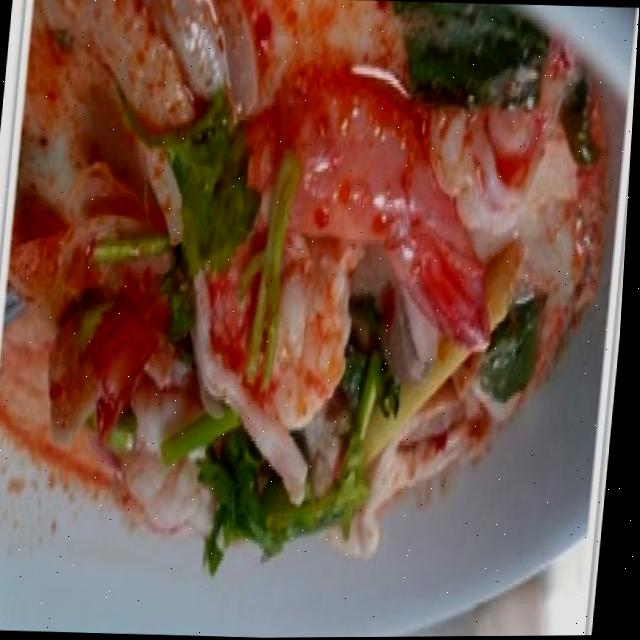汤锅炖物: (7, 12, 604, 578)
